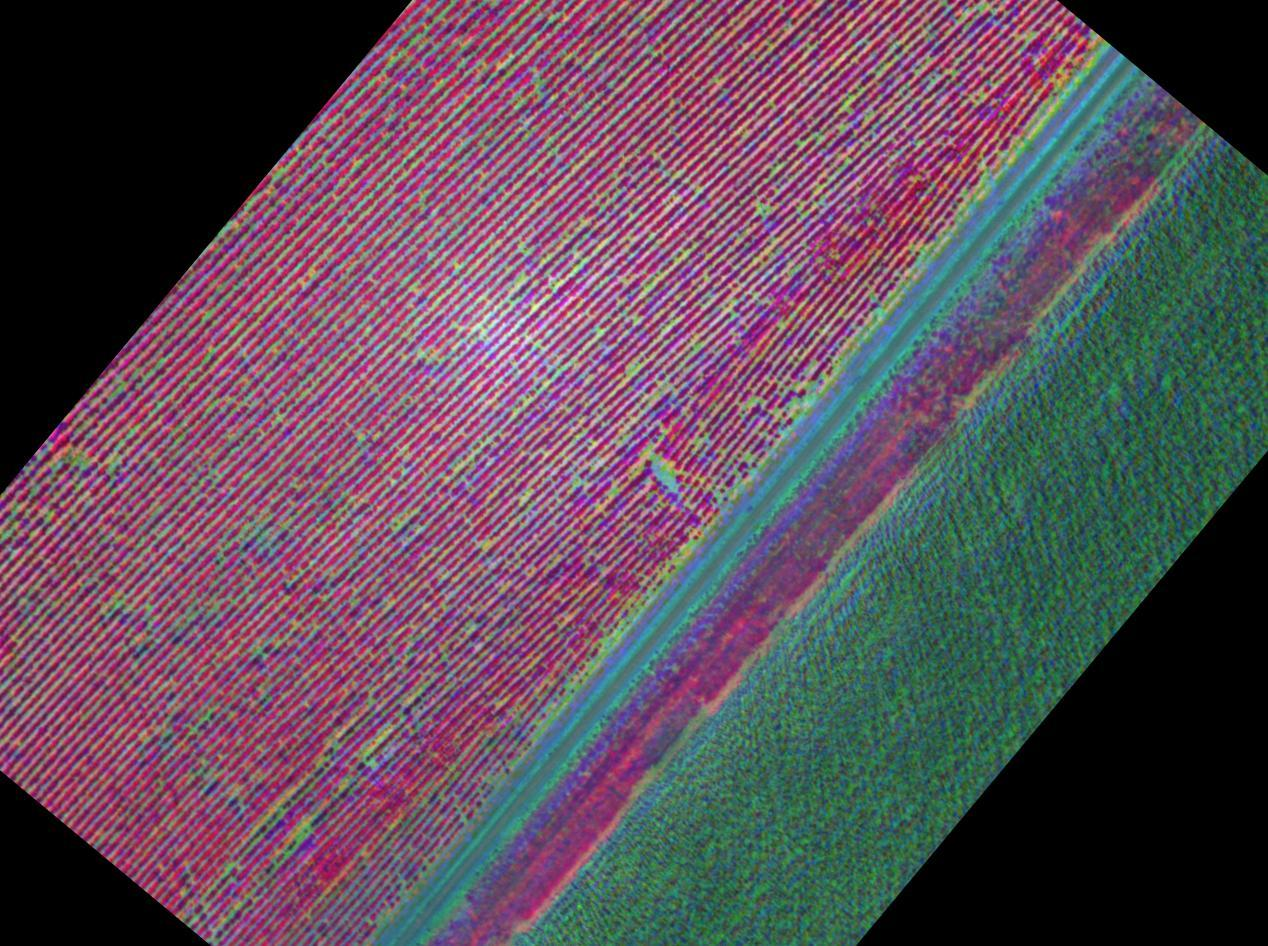dc: (657, 465, 662, 472), (419, 353, 424, 357), (279, 415, 283, 419), (647, 287, 650, 291), (754, 294, 757, 298), (534, 306, 538, 309), (485, 541, 489, 544), (179, 438, 182, 441), (158, 535, 161, 538), (165, 683, 167, 685)
